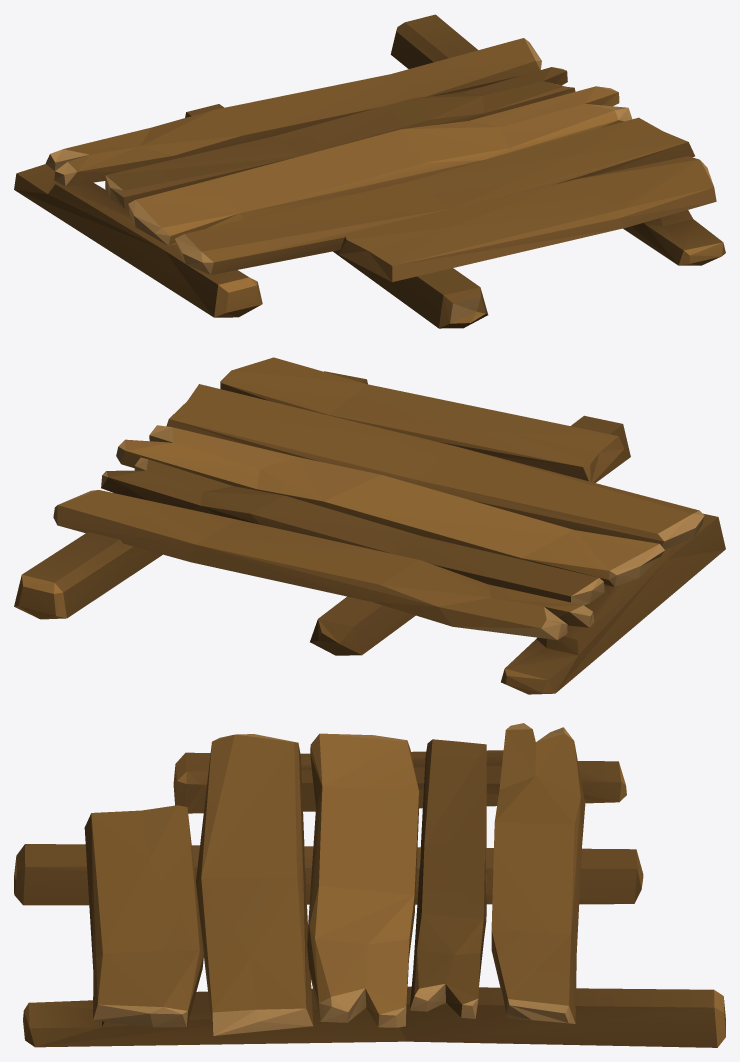
Rendered from swamp_planks_low.glb.
The picture shows the model from 3 angles, top to bottom: view 1: azimuth 30°, elevation 25°; view 2: azimuth 150°, elevation 25°; view 3: azimuth 270°, elevation 25°; orthographic projection. The views are drawn at different scales.
Bounding box in the file's own units: 1.94 × 0.1979 × 1.95.
